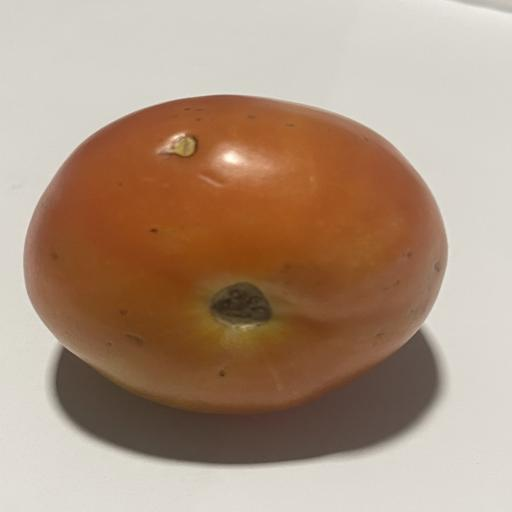unripe: (24, 96, 447, 413)
